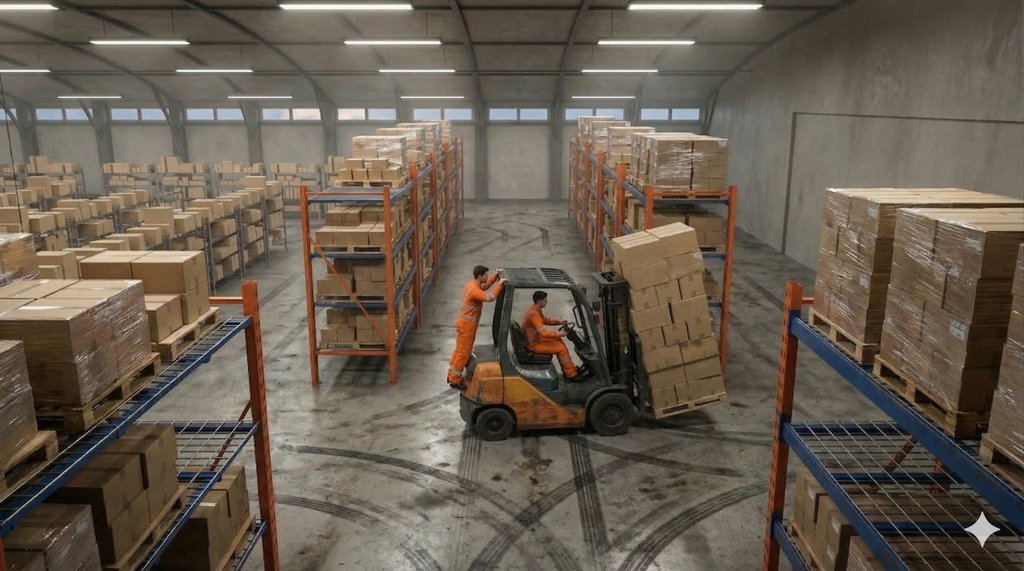empty_shelf: (792, 436, 1001, 557), (166, 415, 255, 477), (312, 177, 387, 206)
forklift: (443, 229, 776, 446)
person: (449, 262, 514, 404), (519, 279, 594, 393)
